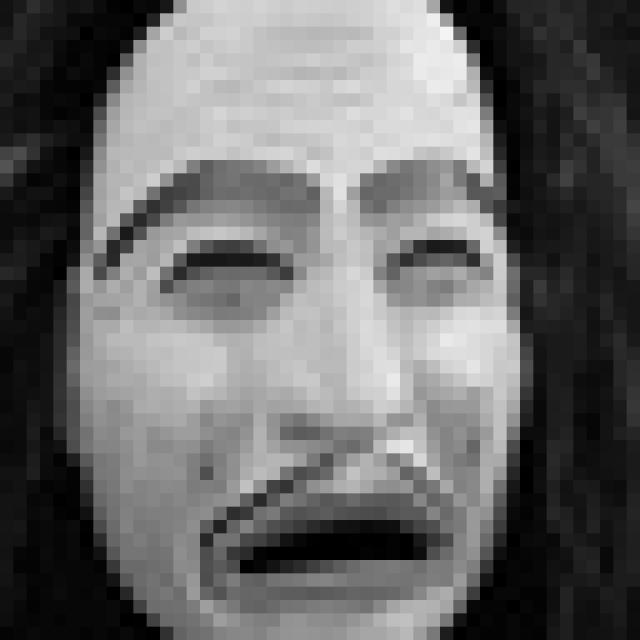sad: (89, 149, 508, 610)
